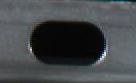holes: (28, 19, 108, 67)
